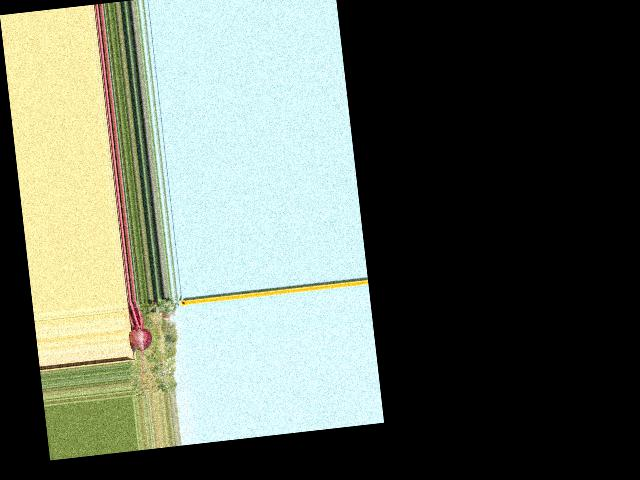beet: (124, 298, 157, 393)
